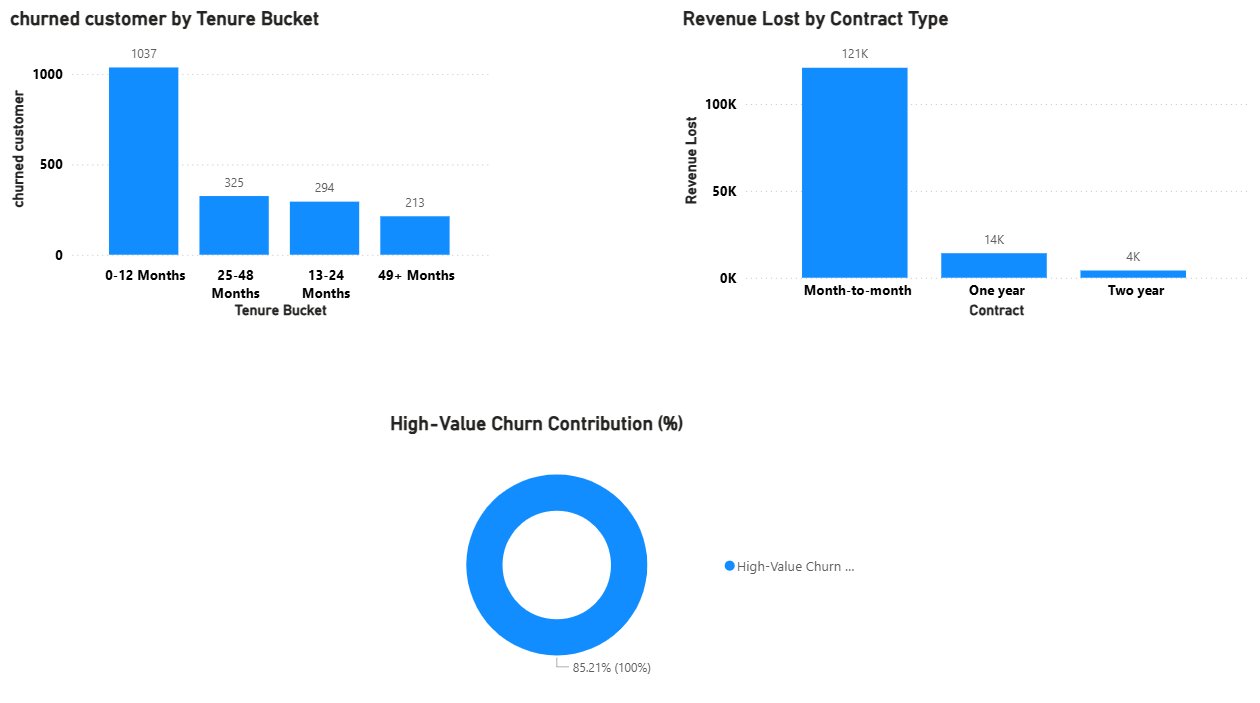

What the dashboard file says about the page in this screenshot:
{"tool":"powerbi","page":{"name":"Revenue and Tenure Impact","canvas":[1280,720],"ordinal":2},"visuals":[{"type":"clusteredColumnChart","fields":{"Category":["telco_churn customers.Tenure Bucket"],"Y":["telco_churn customers.churned customer"]},"box":[16.2,12.5,488.8,316.2],"z":0},{"type":"clusteredColumnChart","title":"Revenue Lost by Contract Type","fields":{"Category":["telco_churn customers.Contract"],"Y":["telco_churn customers.Revenue Lost (Monthly)"]},"box":[688.8,12.5,575,316.2],"z":1000},{"type":"donutChart","fields":{"Y":["telco_churn customers.High-Value Churn Contribution (%)"]},"box":[396.2,417.5,487.5,283.8],"z":2000}]}

Visuals, with their boxes in screenshot pixels (x1, y1, x2, y2), scaled from the page's 1280x720 canvas onto the 1260x703 screenshot:
clusteredColumnChart - telco_churn customers.Tenure Bucket x telco_churn customers.churned customer: BBox(16, 12, 497, 321)
"Revenue Lost by Contract Type" clusteredColumnChart: BBox(678, 12, 1244, 321)
donutChart - telco_churn customers.High-Value Churn Contribution (%): BBox(390, 408, 870, 685)
